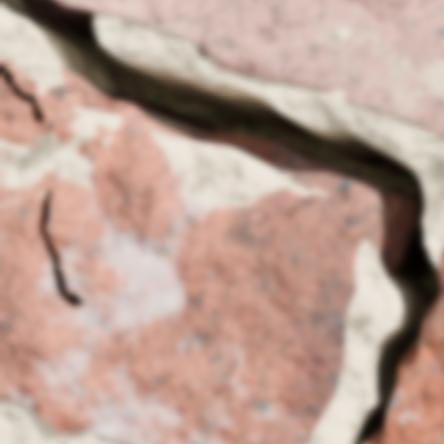brick: (0, 111, 379, 443), (58, 0, 443, 135), (380, 253, 443, 443), (0, 68, 91, 145), (0, 150, 11, 161), (0, 61, 15, 68), (301, 184, 312, 189), (0, 172, 2, 182)
crack: (0, 0, 442, 443), (0, 63, 45, 123)
